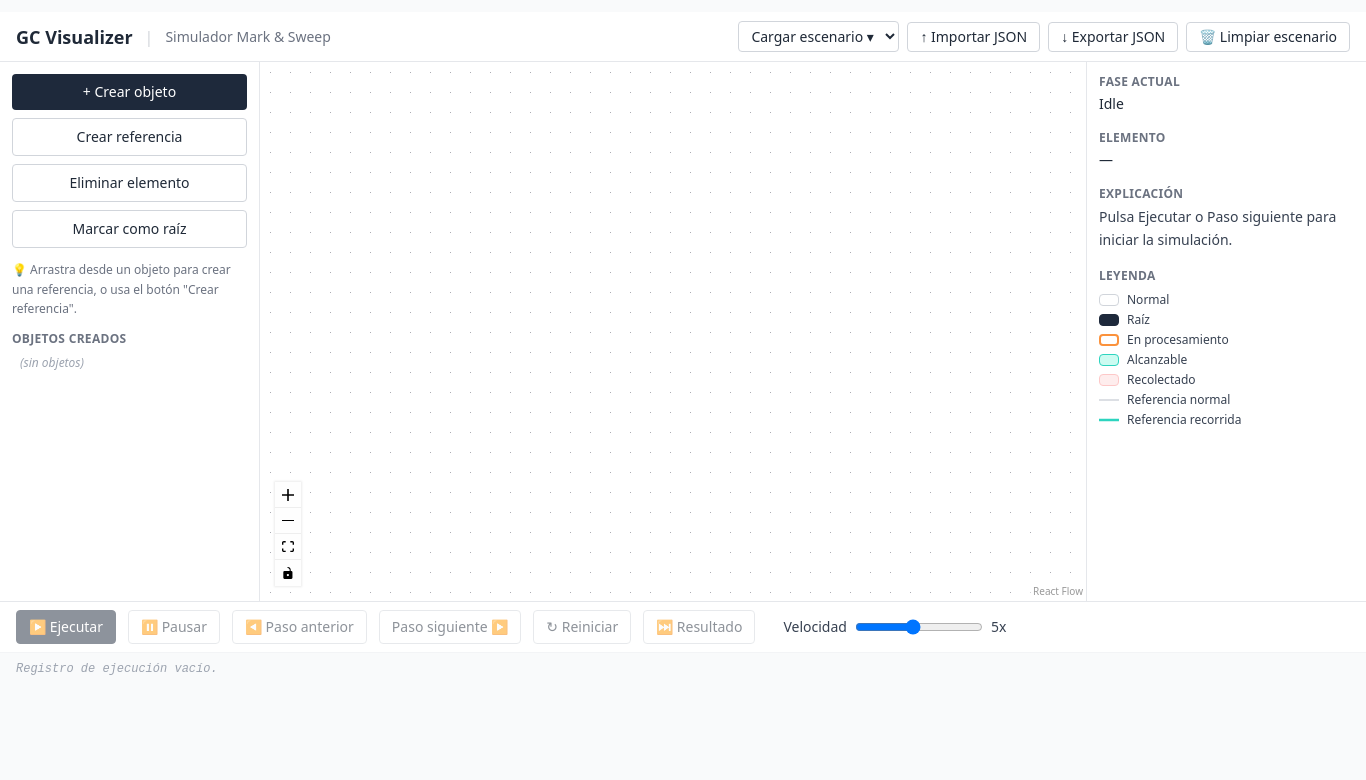
Test: Fase 9.4 — verificación de los 5 escenarios predefinidos › Cadena lineal — A, B, C todos alcanzables
This screenshot has width=1366, height=780.
Expected: the element with test id "graph-canvas" is shown, [260,62,1086,601]
Select "Cadena lineal" in the dropdown with test id "btn-cargar-escenario" at x=819, y=37, box [738,21,899,52]
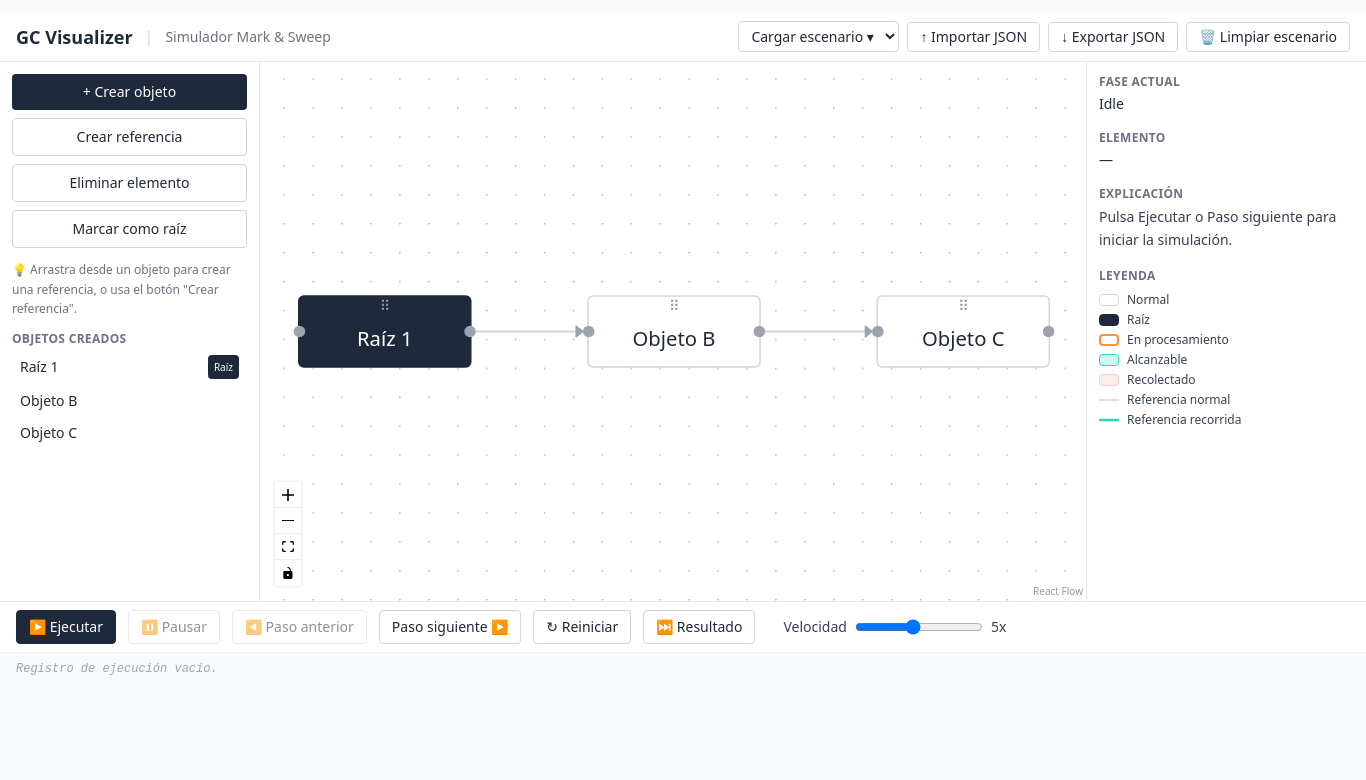
Click the button with test id "btn-ejecutar" at x=66, y=627, box [16,610,116,644]
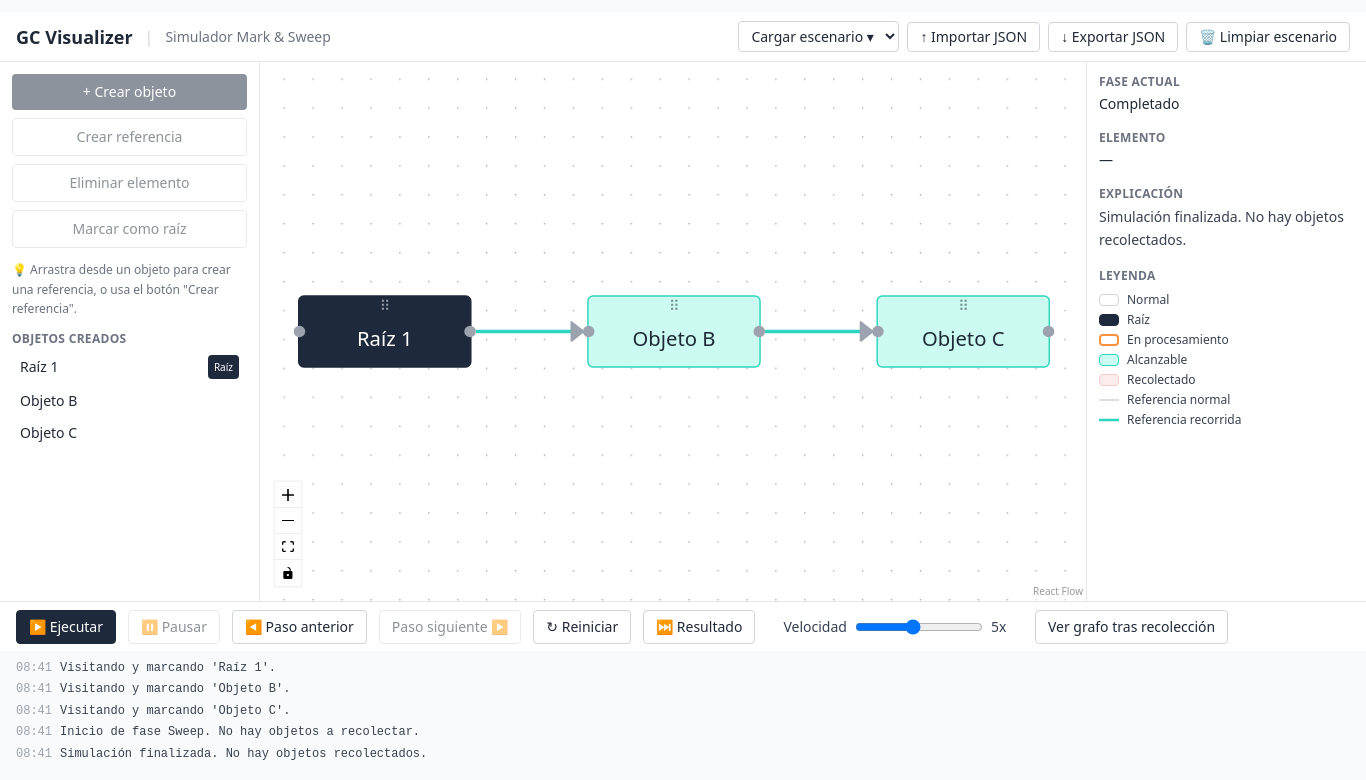
Result: the text with test id "info-fase-actual" reads "Completado" at [1099,94,1180,113]
